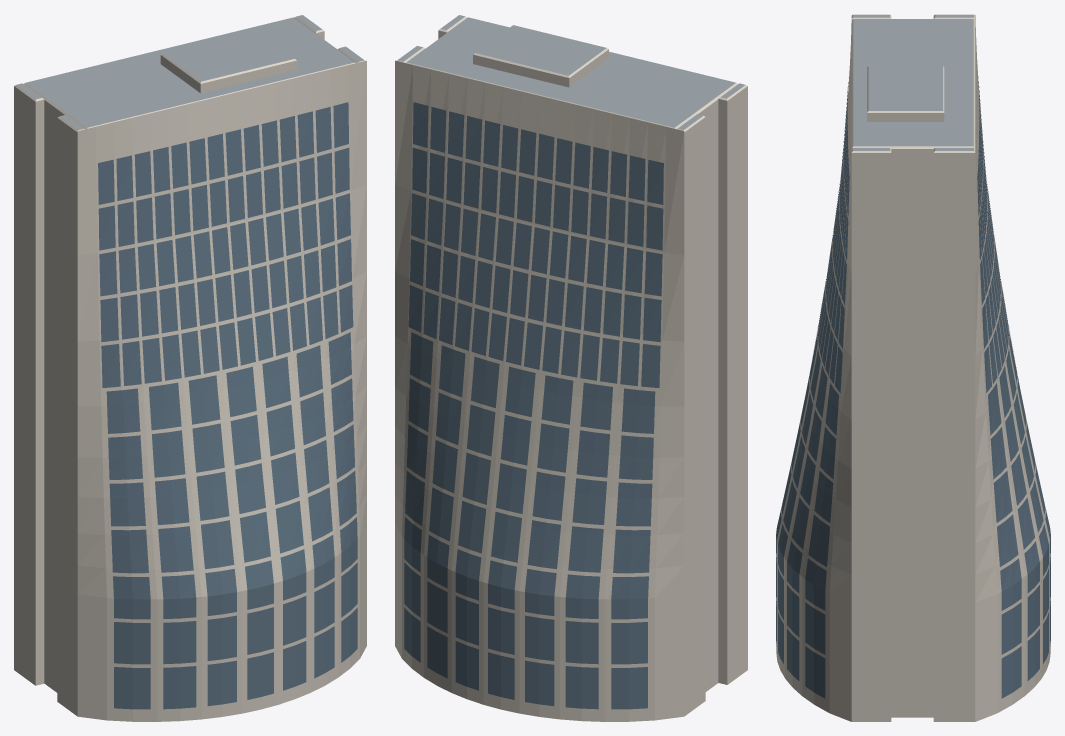
Rendered from atl-marriott-marquis.glb.
3 views of the same model, side by side, from view 1: azimuth 30°, elevation 25°; view 2: azimuth 150°, elevation 25°; view 3: azimuth 270°, elevation 25° (orthographic). The views are drawn at different scales.
Visible parts, largest first — view 1: Atlanta Marriott Marquis; view 2: Atlanta Marriott Marquis; view 3: Atlanta Marriott Marquis.
Boxes of the visible parts, x1,y1,x2,y2 form: Atlanta Marriott Marquis: (14,15,366,721); Atlanta Marriott Marquis: (395,15,747,721); Atlanta Marriott Marquis: (776,14,1050,721).
Bounding box in the file's own units: 84 × 166 × 70.92.
